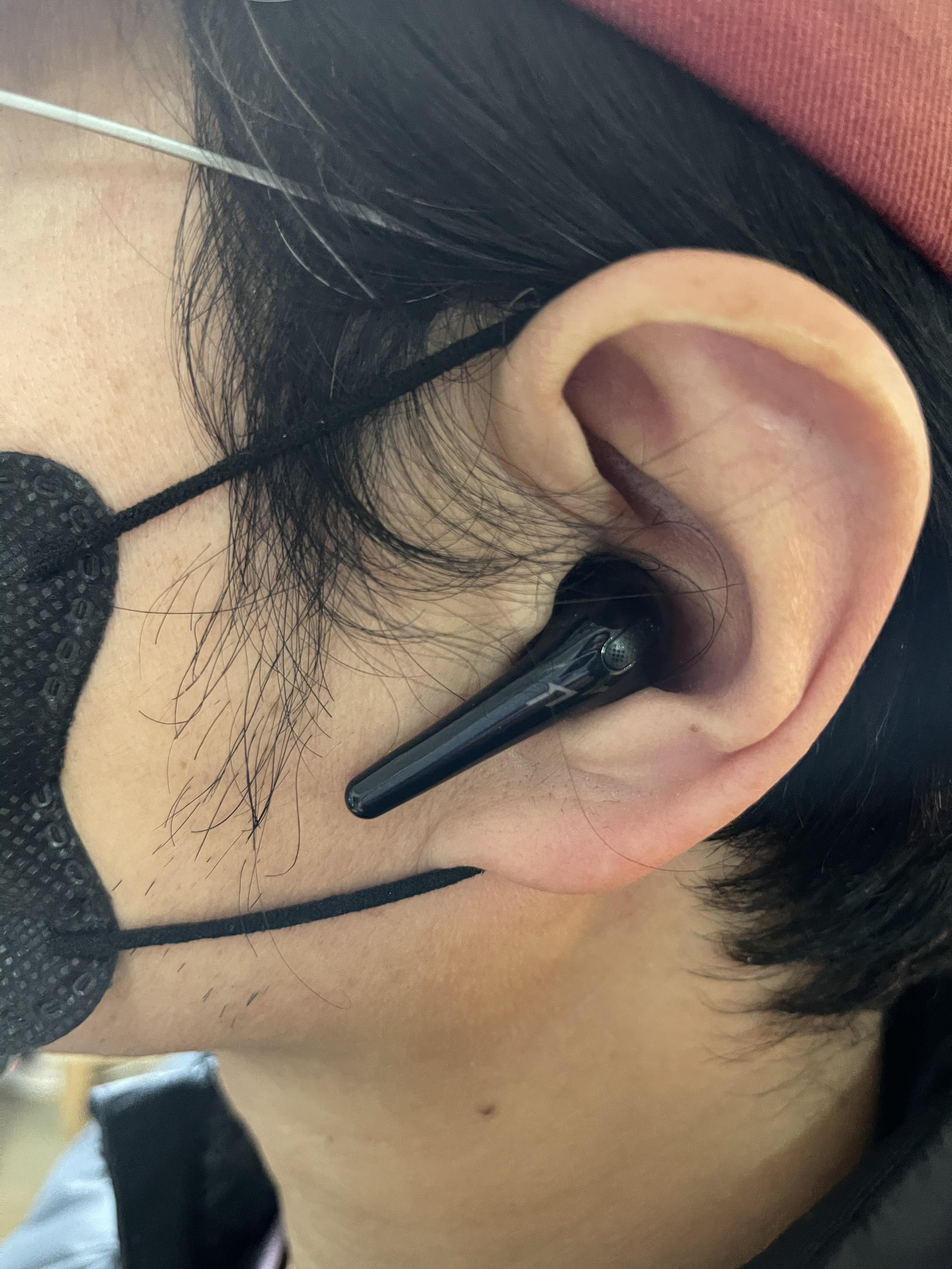earphone: (334, 518, 722, 860)
